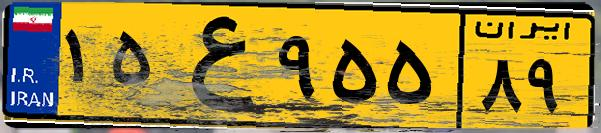1: (57, 26, 110, 100)
5: (385, 28, 445, 110), (330, 28, 385, 110), (110, 28, 158, 98)
8: (475, 38, 525, 113)
9: (270, 28, 330, 110), (525, 38, 570, 115)
ع: (158, 12, 270, 120)
